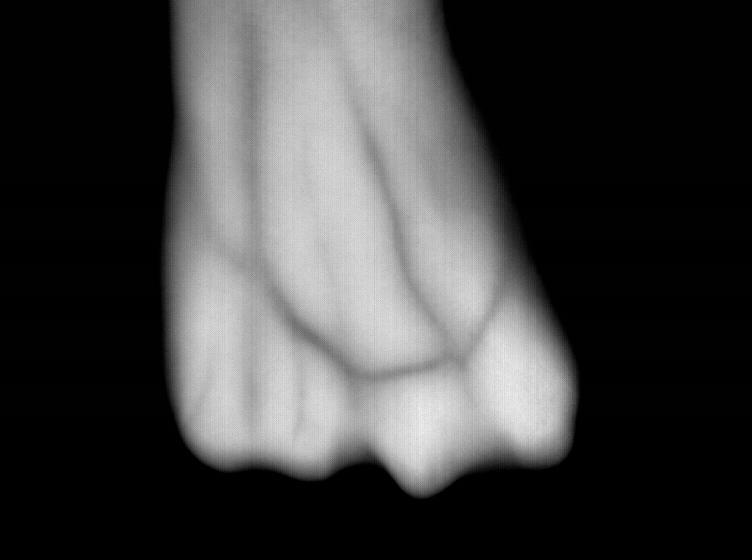Vein: (247, 33, 458, 382)
